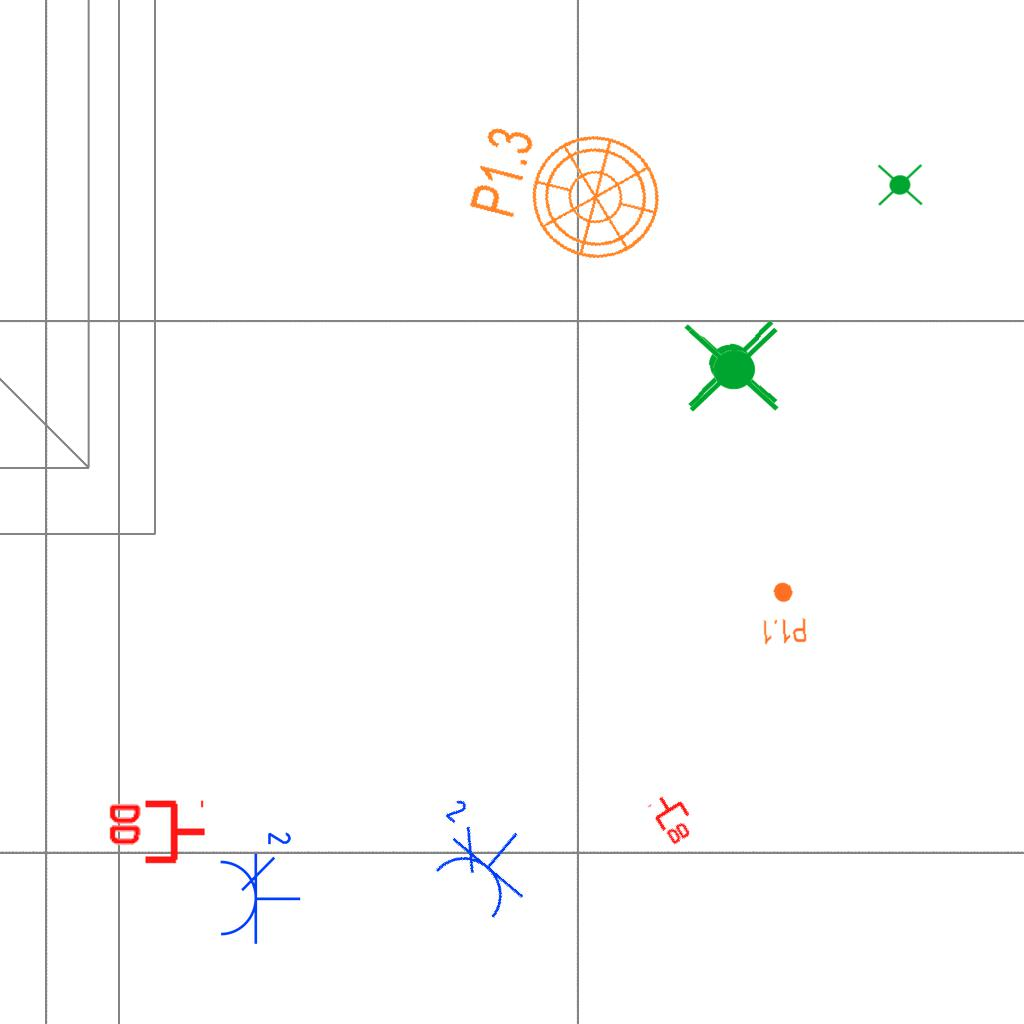Aufbaurundleuchte_LED_Treppenhaus: (445, 88, 680, 277)
Datenanschluss_zweifach: (105, 799, 208, 868), (646, 786, 702, 849)
Downlight_LED_Einbauleuchten_Flur_2: (757, 579, 809, 647)
Notlichtbaustein_in_Allgemeinbeleuchtug_engebaut_Einbau_(1UG_und_2UG_Aufbauvaria: (678, 311, 783, 419), (684, 317, 784, 420), (875, 160, 925, 211)
Schukosteckdose_mehrfach: (404, 784, 554, 931), (214, 825, 302, 946)
